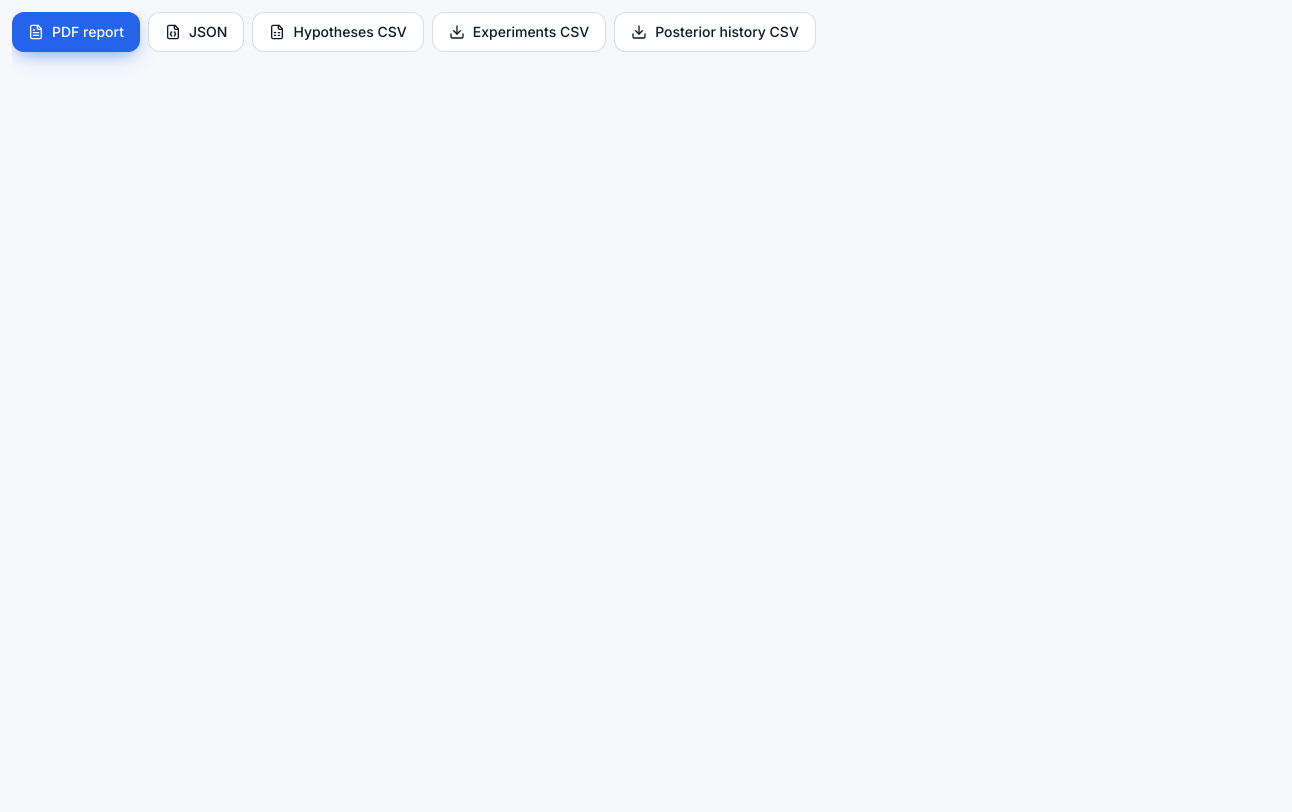
Scenario: report downloads › surfaces a download failure as a notification
Click the button "PDF report". click: (76, 32)
box: [12,12,140,52]
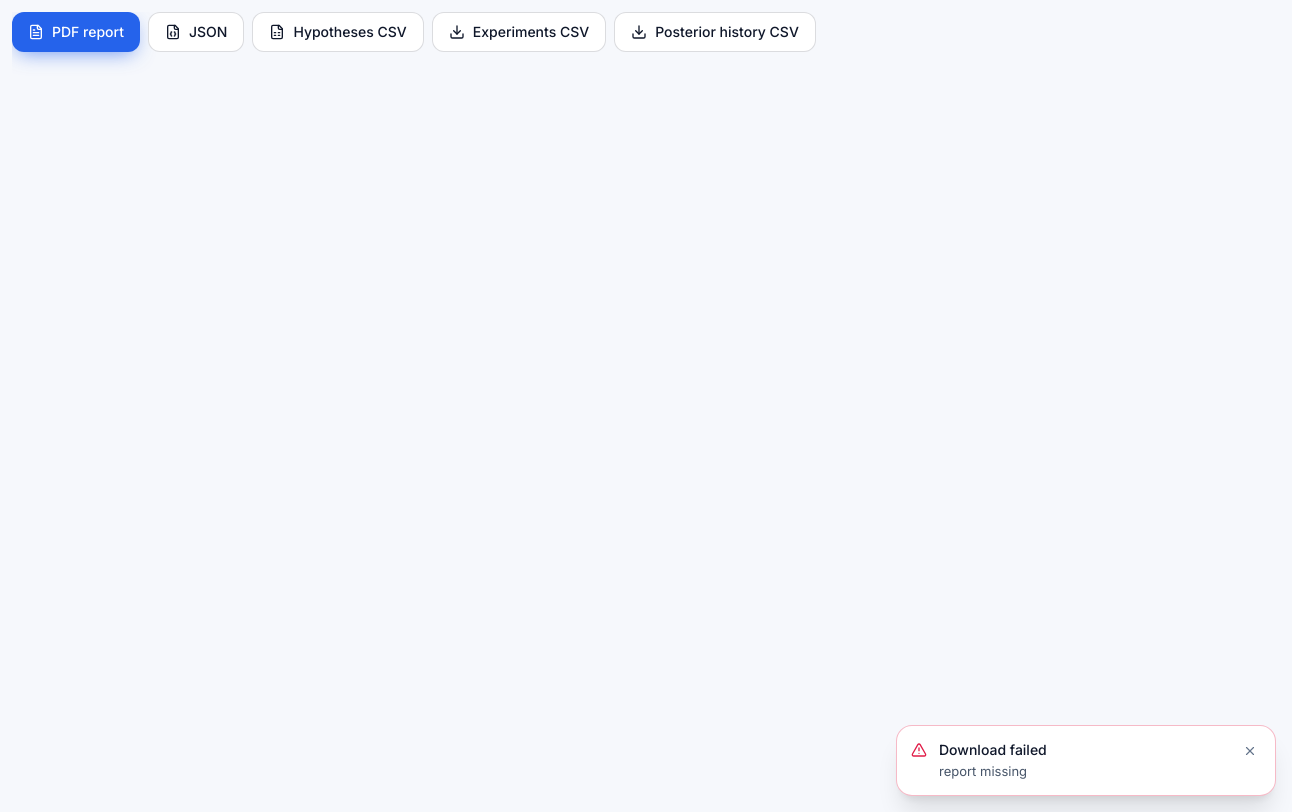
Expected: the text "report missing" is shown, [939,762,1027,778]
